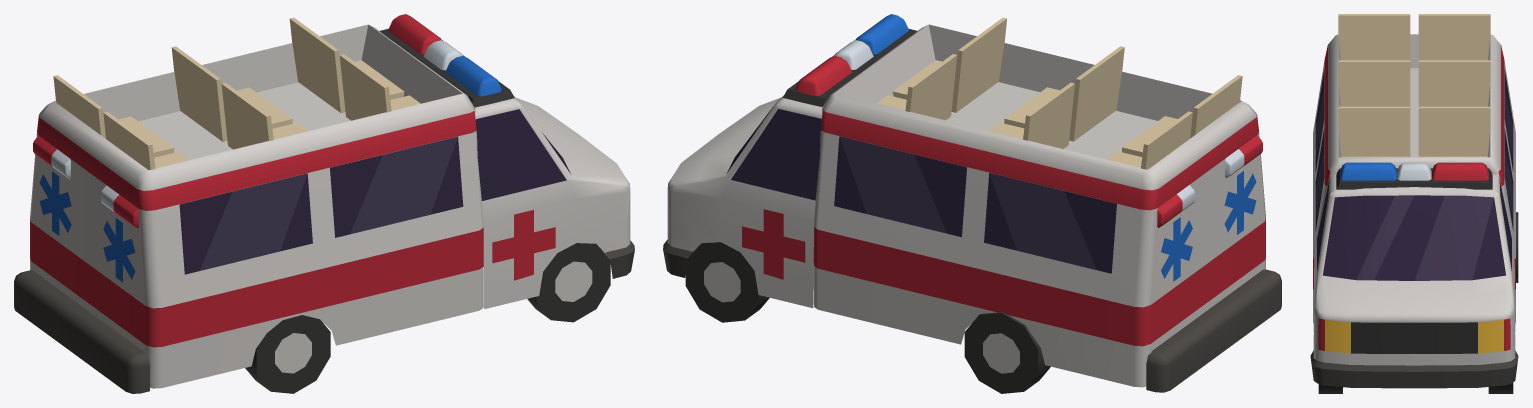
Rendered from XeCapCuu_Open.fbx.
3 views of the same model, side by side, from view 1: azimuth 30°, elevation 25°; view 2: azimuth 150°, elevation 25°; view 3: azimuth 270°, elevation 25° (orthographic). The views are drawn at different scales.
Visible parts, largest first — view 1: XeCapCuu_Open; view 2: XeCapCuu_Open; view 3: XeCapCuu_Open.
Part boxes in pixels (box(x1,y1,x2,y2)): XeCapCuu_Open: box(14, 14, 634, 393); XeCapCuu_Open: box(663, 14, 1281, 393); XeCapCuu_Open: box(1310, 14, 1518, 393).
Bounding box in the file's own units: 19.35 × 9.64 × 8.44.
